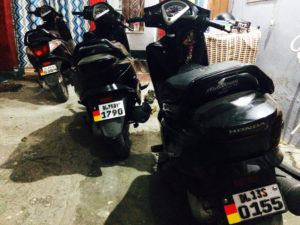number_plate: (87, 99, 135, 127)
